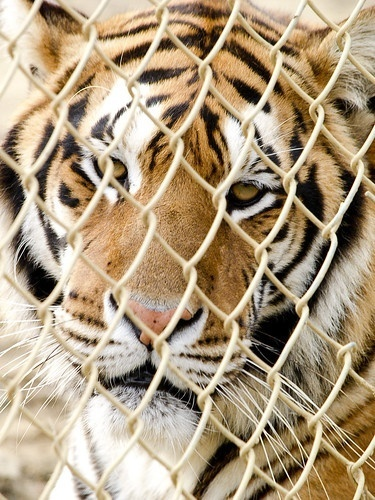tigre: (9, 2, 375, 487)
